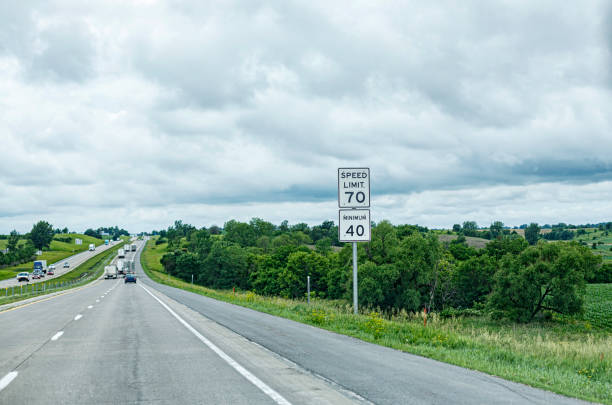SpeedLimitSign: (335, 163, 371, 208)
